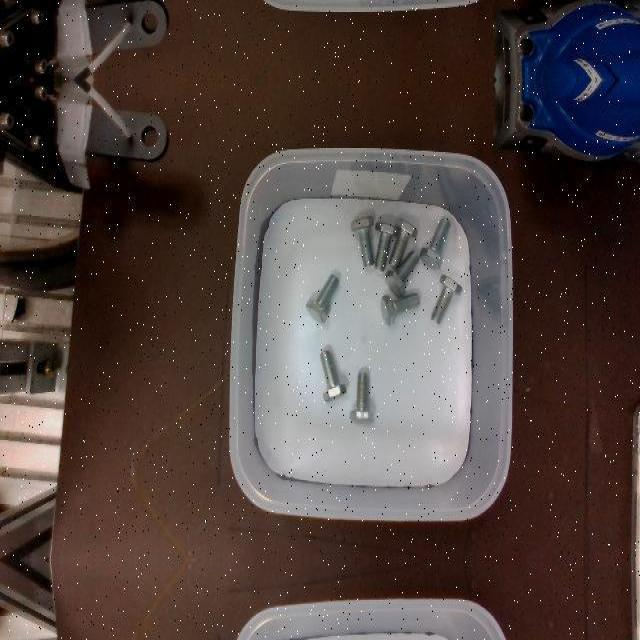screw: (305, 273, 339, 323), (430, 273, 463, 323), (420, 217, 451, 269), (385, 250, 420, 296), (388, 219, 418, 269), (320, 350, 347, 402), (381, 293, 420, 327), (349, 372, 373, 422), (374, 221, 398, 271), (351, 216, 374, 266)
